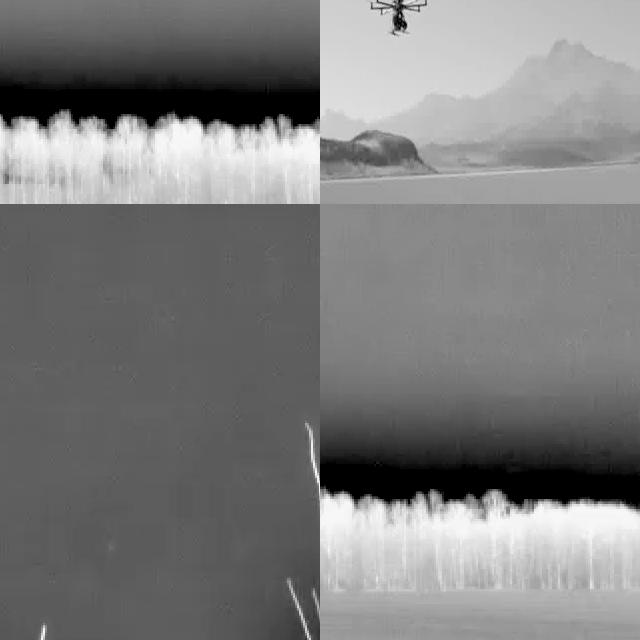0: (97, 533, 119, 568)
drone: (368, 0, 430, 37)
